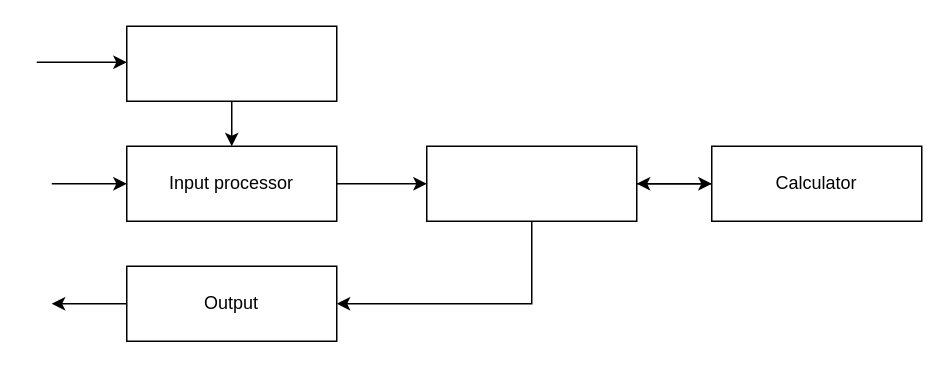
This 948x368 diagram has some shape labels left out. The shapes that lost their labels are listed below. From the top down, each one's centre as x and y in pixels, then its label:
(231,63): Init
(531,183): Process
